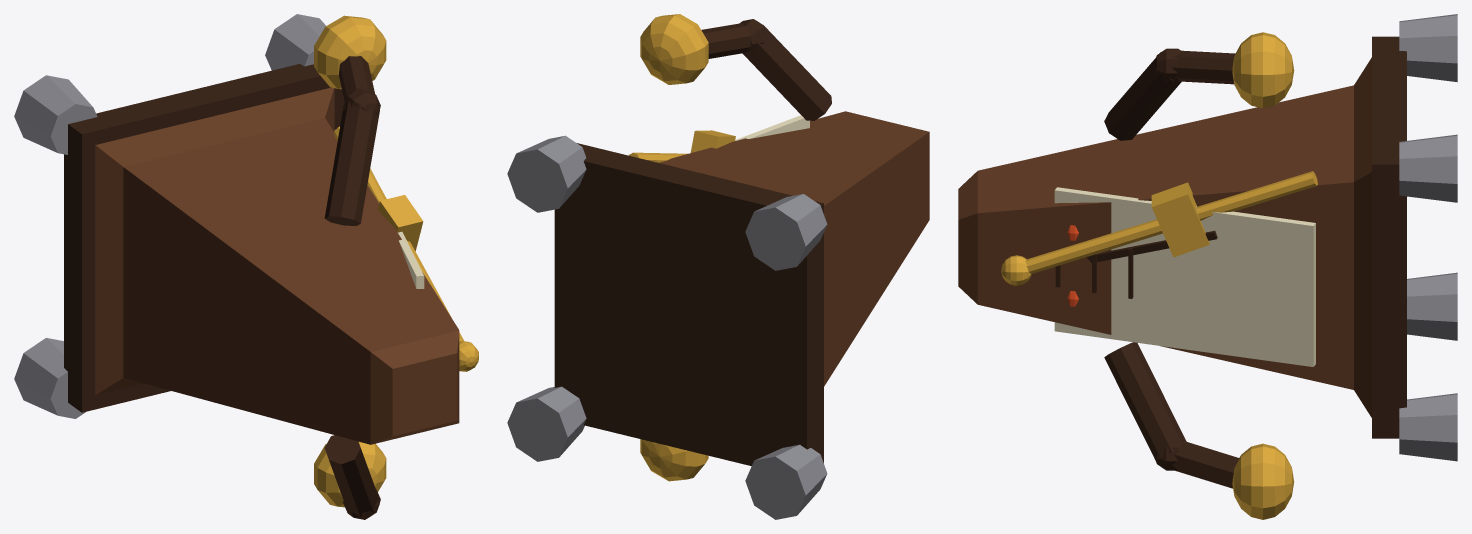
File: MetronomoRoto.obj
3 views of the same model, side by side, from view 1: azimuth 30°, elevation 25°; view 2: azimuth 150°, elevation 25°; view 3: azimuth 270°, elevation 25° (orthographic). The views are drawn at different scales.
Parts seen in each view (by area): view 1: MetronomoRoto; view 2: MetronomoRoto; view 3: MetronomoRoto.
Boxes of the visible parts, x1,y1,x2,y2 form: MetronomoRoto: (14,14,478,519); MetronomoRoto: (507,14,929,519); MetronomoRoto: (958,14,1457,519).
Bounding box in the file's own units: 276 × 410 × 385.
